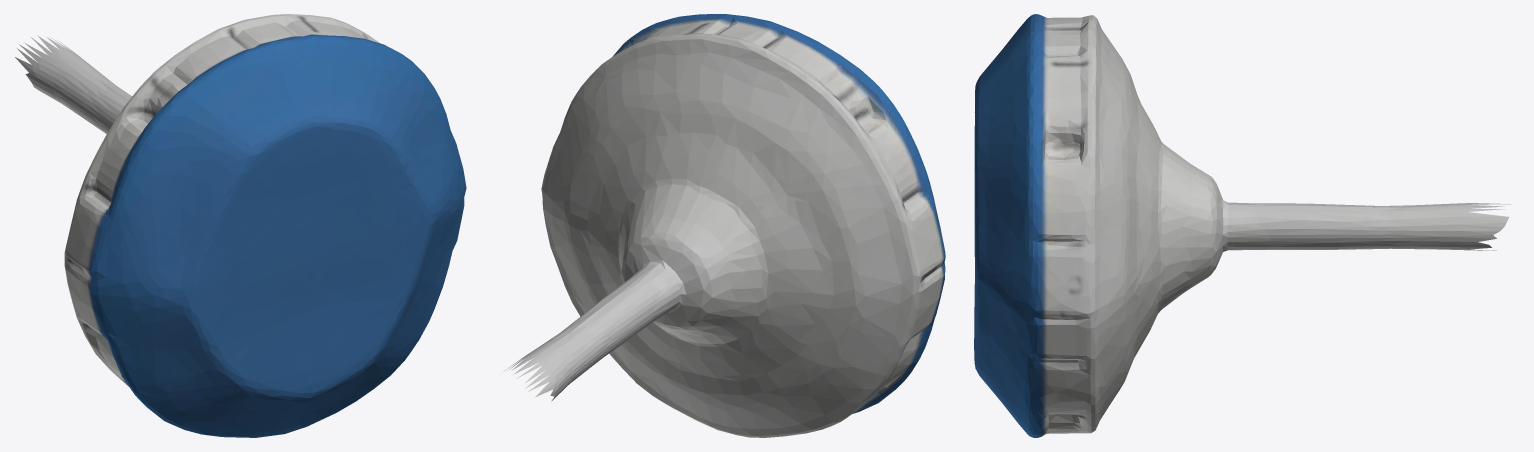
The model's file is plunger_visual.glb.
3 views of the same model, side by side, from view 1: azimuth 30°, elevation 25°; view 2: azimuth 150°, elevation 25°; view 3: azimuth 270°, elevation 25° (orthographic). The views are drawn at different scales.
Parts seen in each view (by area): view 1: world; view 2: world; view 3: world.
Boxes of the visible parts, <box> form: world: <box>15,14,466,437</box>; world: <box>505,14,945,437</box>; world: <box>974,14,1510,437</box>.
Size of the model in its own units: 0.0265 by 0.0264 by 0.034.
1 material, 1 textured.
